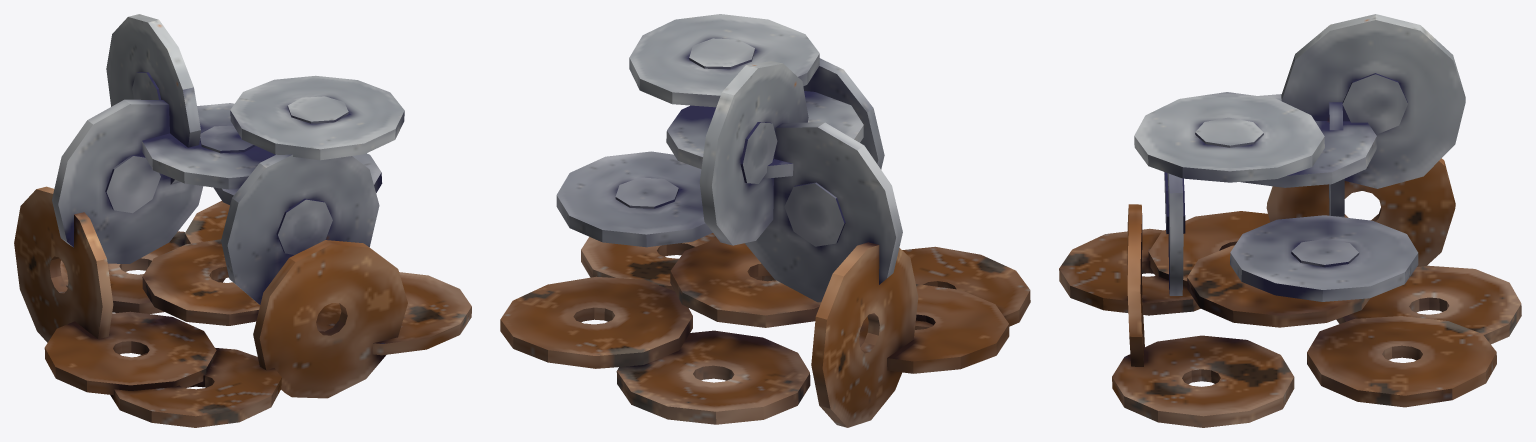
Rendered from BushHubcap.glb.
3 views of the same model, side by side, from view 1: azimuth 30°, elevation 25°; view 2: azimuth 150°, elevation 25°; view 3: azimuth 270°, elevation 25° (orthographic). The views are drawn at different scales.
Visible parts, largest first — view 1: Rusted, Chrome; view 2: Rusted, Chrome; view 3: Rusted, Chrome.
Boxes of the visible parts, left/top/right/bottom form: Rusted: left=14, top=186, right=471, bottom=427; Chrome: left=52, top=14, right=404, bottom=304; Rusted: left=500, top=233, right=1030, bottom=427; Chrome: left=556, top=14, right=902, bottom=302; Rusted: left=1059, top=158, right=1521, bottom=427; Chrome: left=1134, top=14, right=1465, bottom=301.
Bounding box in the file's own units: 3.62 × 2.76 × 3.51.
Materials: 2 (2 with a texture image).
